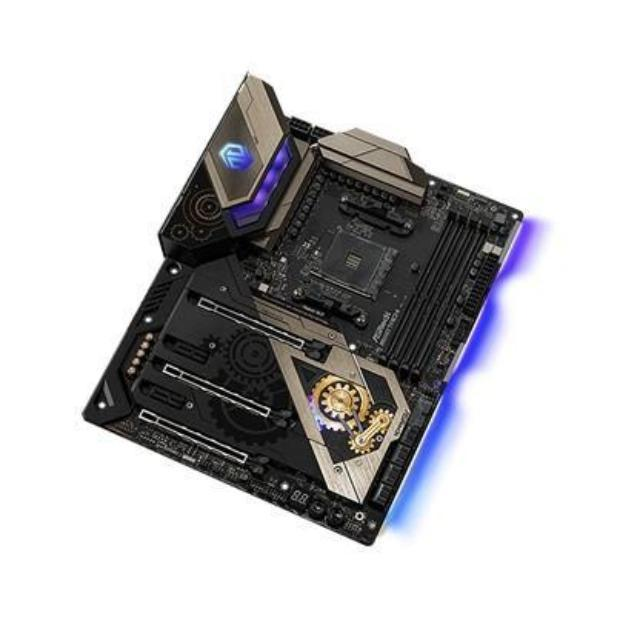Mainboard: (78, 64, 524, 550)
